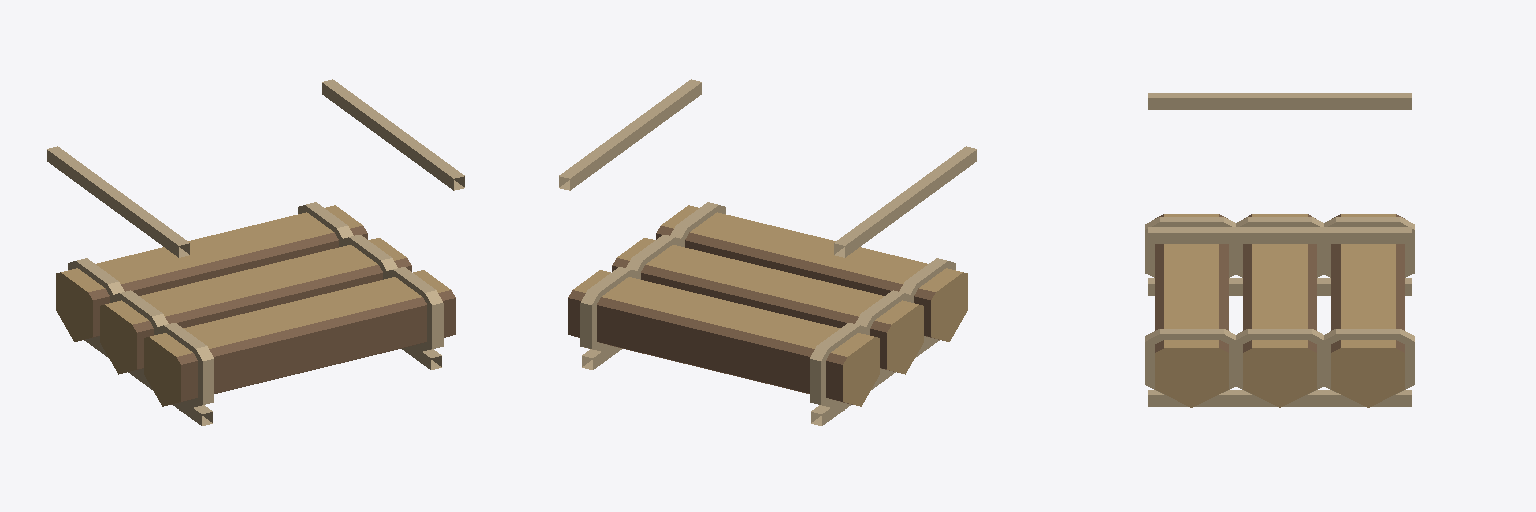
The model's file is Cliff_Prop_Bridge_Rope_Middle.obj.
3 views of the same model, side by side, from view 1: azimuth 30°, elevation 25°; view 2: azimuth 150°, elevation 25°; view 3: azimuth 270°, elevation 25° (orthographic).
Parts seen in each view (by area): view 1: object12, object7, object3, object13, object10, object2, object11, object4, object5, object1, object8, object6; view 2: object3, object7, object12, object13, object10, object8, object4, object11, object5, object2, object1, object6; view 3: object12, object3, object7, object10, object13, object9, object8, object1, object2, object4, object11, object5 (+1 smaller).
Part boxes in pixels (left/top/right/bottom): object12: left=144, top=270, right=455, bottom=406; object7: left=100, top=238, right=411, bottom=374; object3: left=56, top=205, right=367, bottom=341; object13: left=47, top=146, right=189, bottom=257; object10: left=322, top=79, right=464, bottom=190; object2: left=387, top=267, right=443, bottom=354; object11: left=158, top=323, right=213, bottom=410; object4: left=68, top=258, right=124, bottom=345; object5: left=114, top=290, right=168, bottom=377; object1: left=342, top=235, right=397, bottom=279; object8: left=298, top=202, right=353, bottom=246; object6: left=84, top=337, right=212, bottom=425; object3: left=568, top=270, right=879, bottom=406; object7: left=612, top=238, right=923, bottom=374; object12: left=656, top=205, right=967, bottom=341; object13: left=834, top=146, right=976, bottom=257; object10: left=559, top=79, right=701, bottom=190; object8: left=580, top=267, right=637, bottom=354; object4: left=810, top=323, right=865, bottom=410; object11: left=899, top=258, right=955, bottom=345; object5: left=855, top=290, right=910, bottom=377; object2: left=670, top=202, right=725, bottom=246; object1: left=626, top=235, right=681, bottom=279; object6: left=811, top=338, right=939, bottom=425; object12: left=1155, top=214, right=1228, bottom=407; object3: left=1331, top=214, right=1404, bottom=407; object7: left=1243, top=214, right=1316, bottom=407; object10: left=1148, top=227, right=1411, bottom=243; object13: left=1148, top=93, right=1411, bottom=109; object9: left=1148, top=390, right=1411, bottom=406; object8: left=1322, top=329, right=1414, bottom=400; object1: left=1234, top=329, right=1325, bottom=398; object2: left=1145, top=329, right=1237, bottom=400; object4: left=1322, top=217, right=1414, bottom=277; object11: left=1145, top=217, right=1237, bottom=277; object5: left=1234, top=217, right=1325, bottom=277.
Size of the model in its own units: 1.25 by 0.7789 by 1.02.